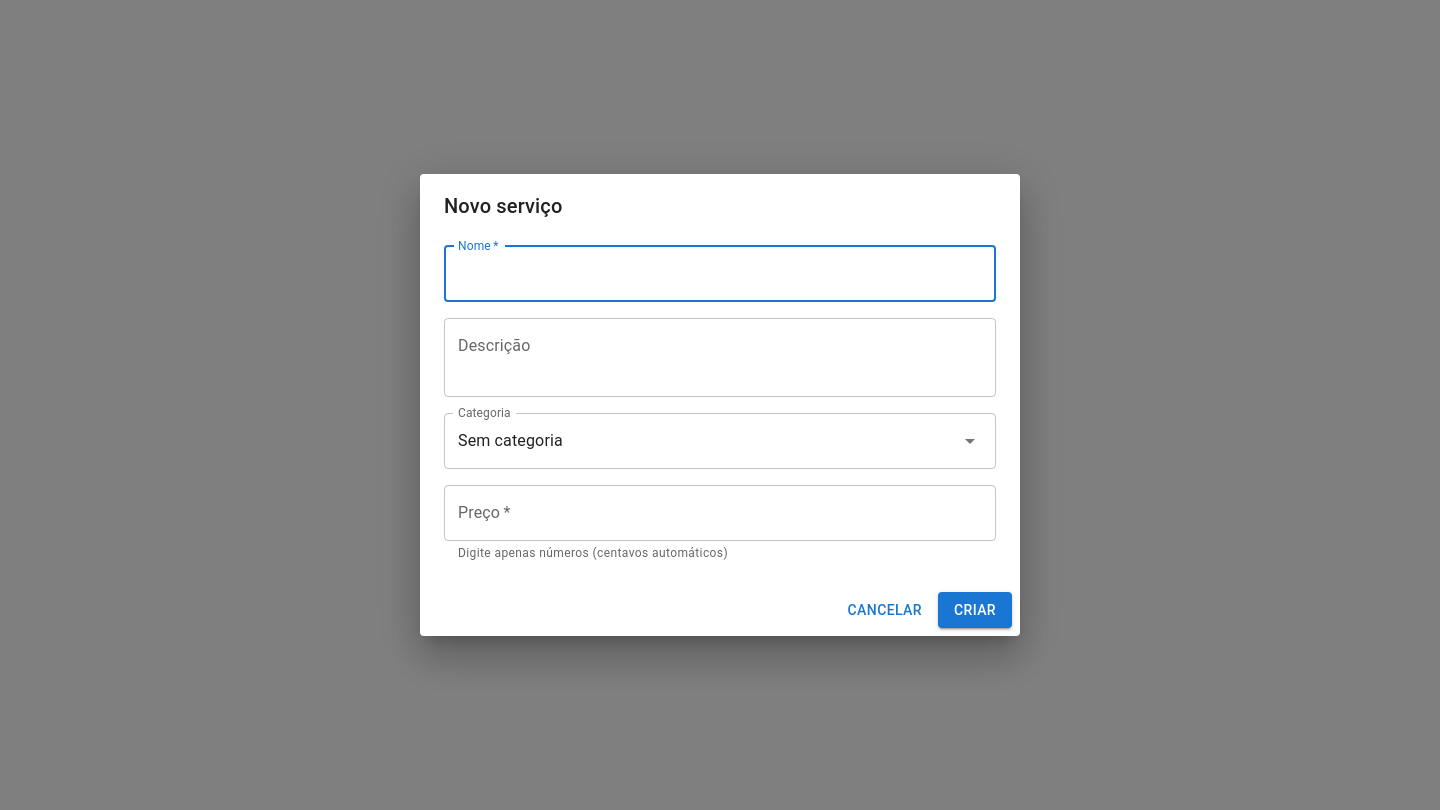
Test: ServiceFormDialog (create) › exibe erro ao submeter sem nome
This screenshot has width=1440, height=810.
In the field labelled "Preço *": (720, 513) [444,485,996,541], type "100,00"
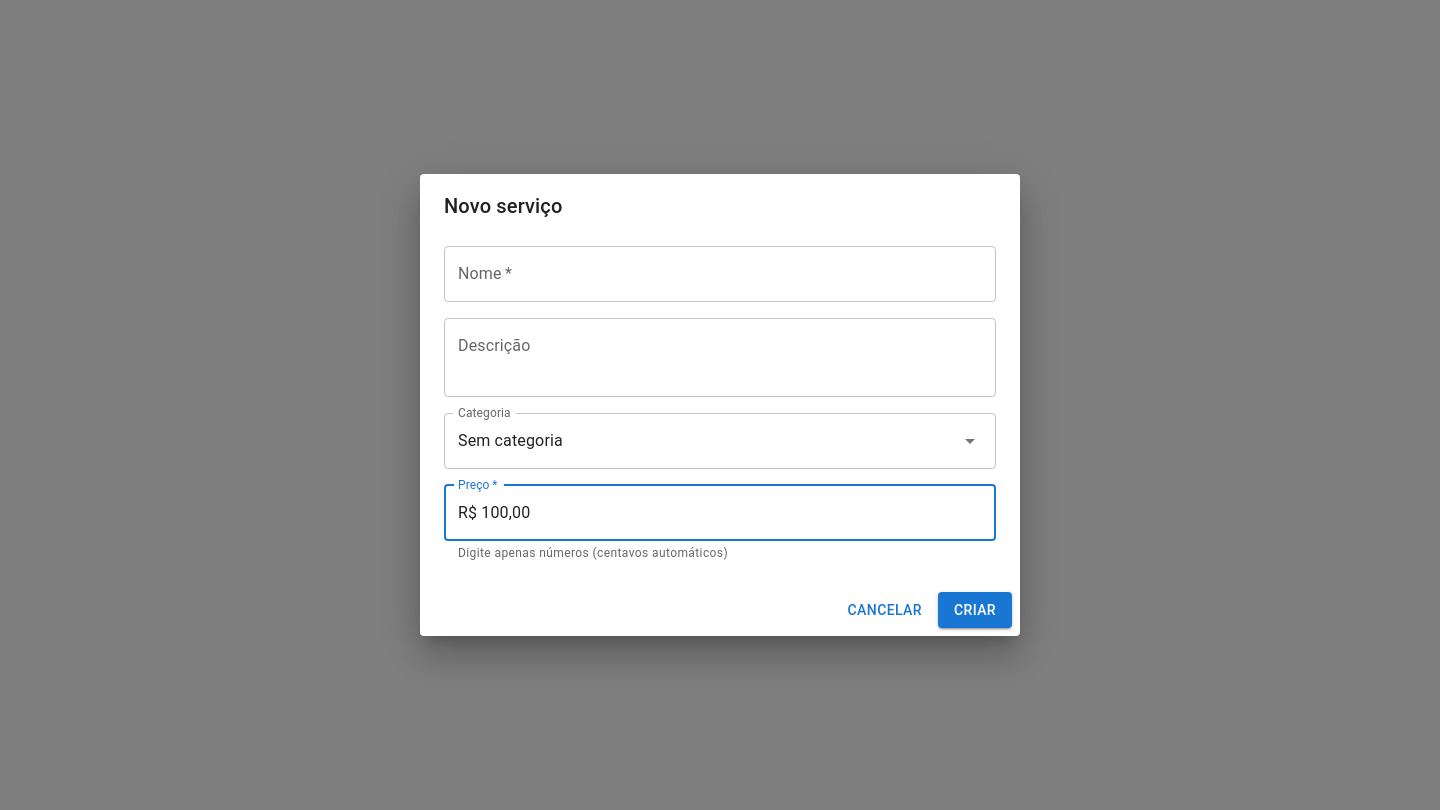
Click the button "Criar": (975, 610) [938,592,1012,628]
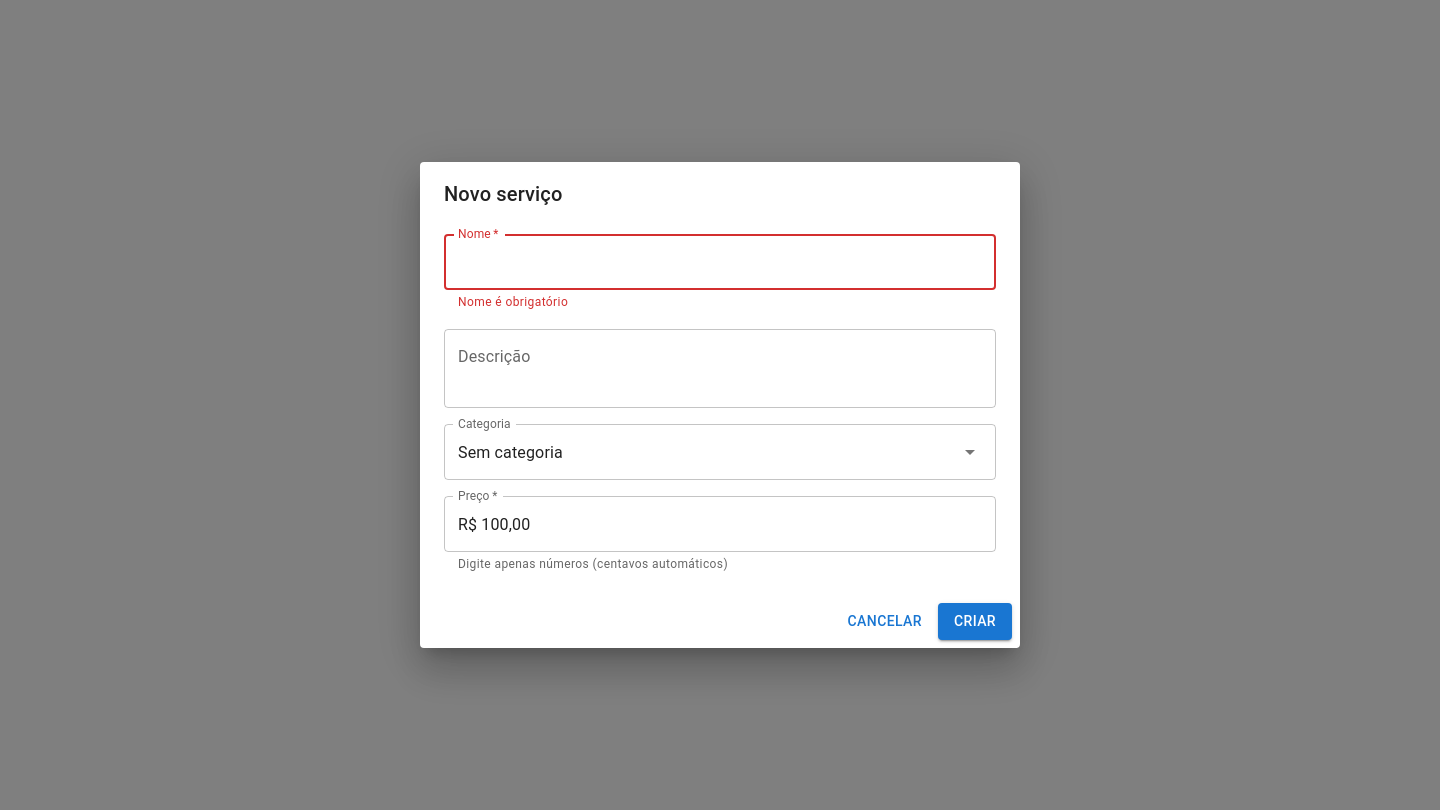
Check: the text "Nome é obrigatório" is shown, box [458,295,568,309]
